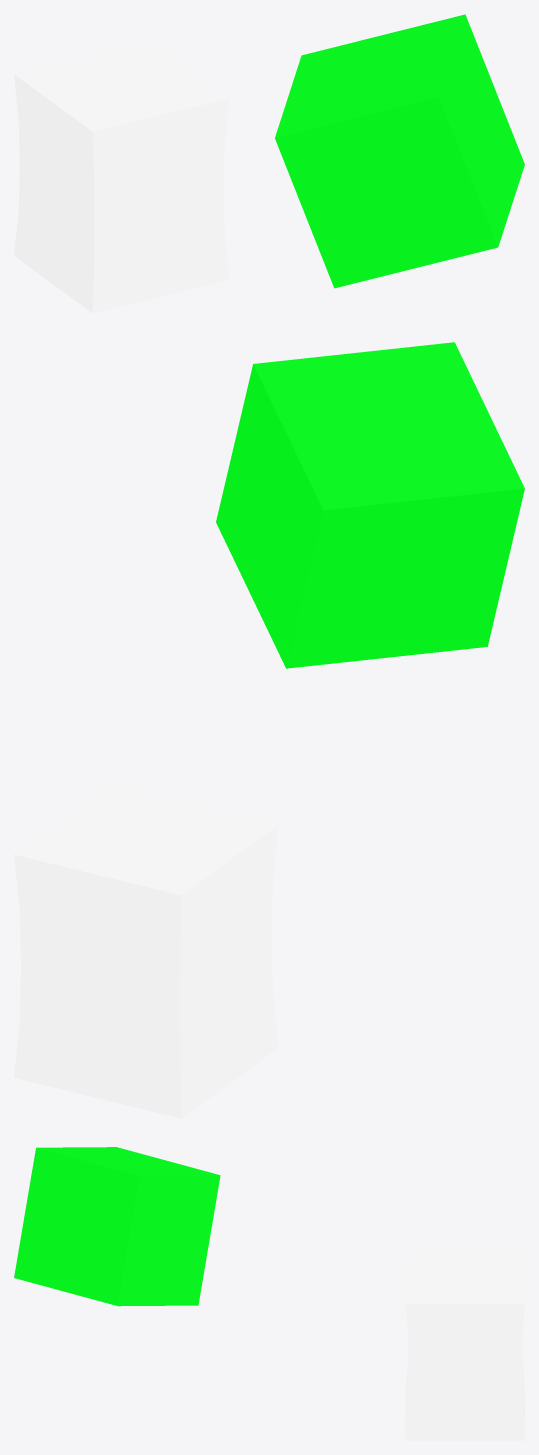
File: Mesh_MemoryLooper.glb
3 views of the same model, one above another, from view 1: azimuth 30°, elevation 25°; view 2: azimuth 150°, elevation 25°; view 3: azimuth 270°, elevation 25° (orthographic). The views are drawn at different scales.
Visible parts, largest first — view 1: Cube.098, Cube.084; view 2: Cube.098, Cube.084; view 3: Cube.098, Cube.084.
Part boxes in pixels (x1=…): Cube.098: x1=275, y1=14, x2=524, y2=288; Cube.084: x1=14, y1=41, x2=229, y2=313; Cube.098: x1=216, y1=342, x2=524, y2=668; Cube.084: x1=14, y1=783, x2=278, y2=1118; Cube.098: x1=14, y1=1147, x2=220, y2=1306; Cube.084: x1=405, y1=1253, x2=524, y2=1440.
Bounding box in the file's own units: 2.16 × 3.13 × 5.05.
